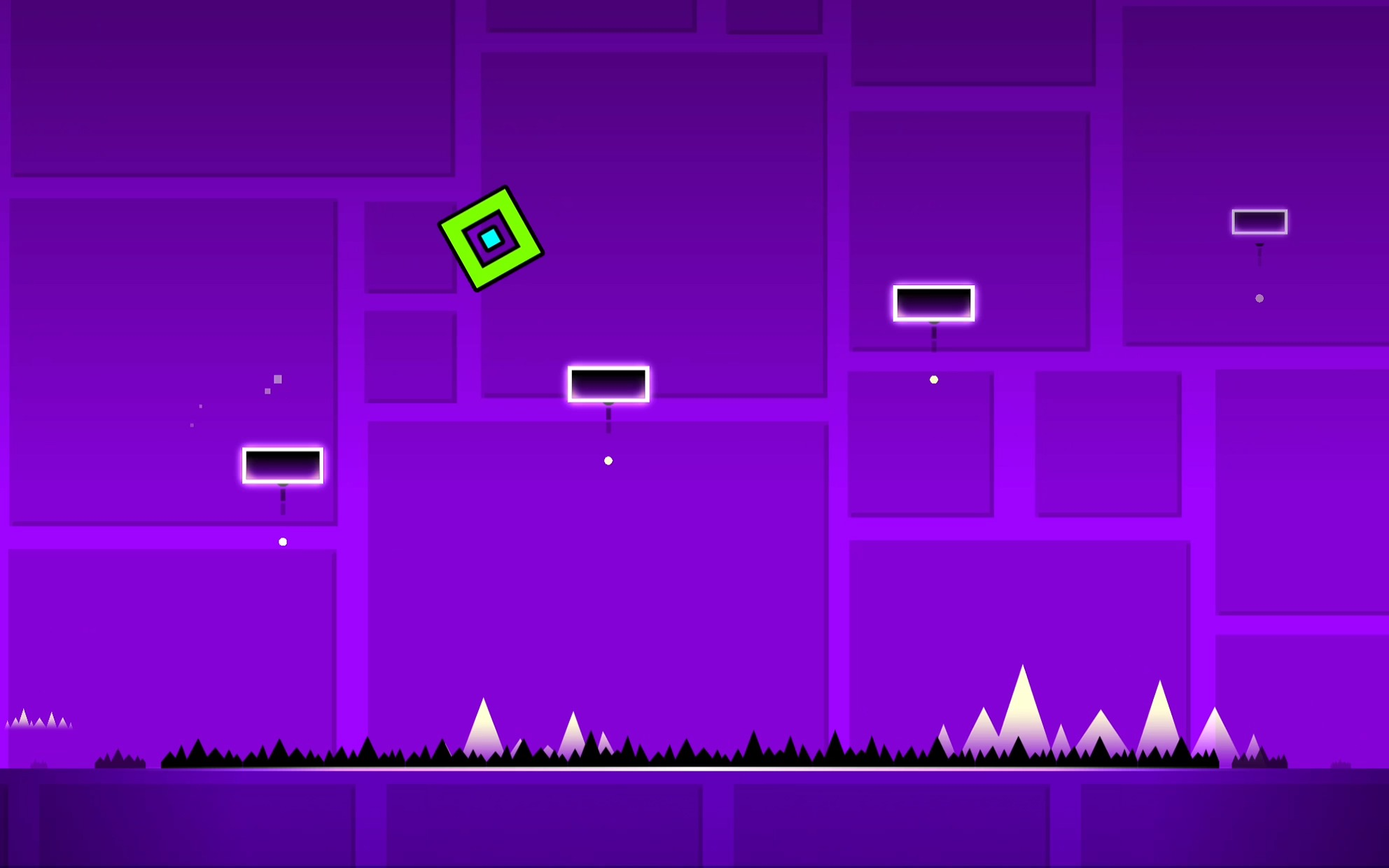Block3: (569, 366, 653, 405), (893, 286, 978, 322), (241, 450, 325, 486), (1232, 211, 1289, 236)
Player: (438, 191, 542, 294)
Spike3: (86, 722, 1344, 780)
